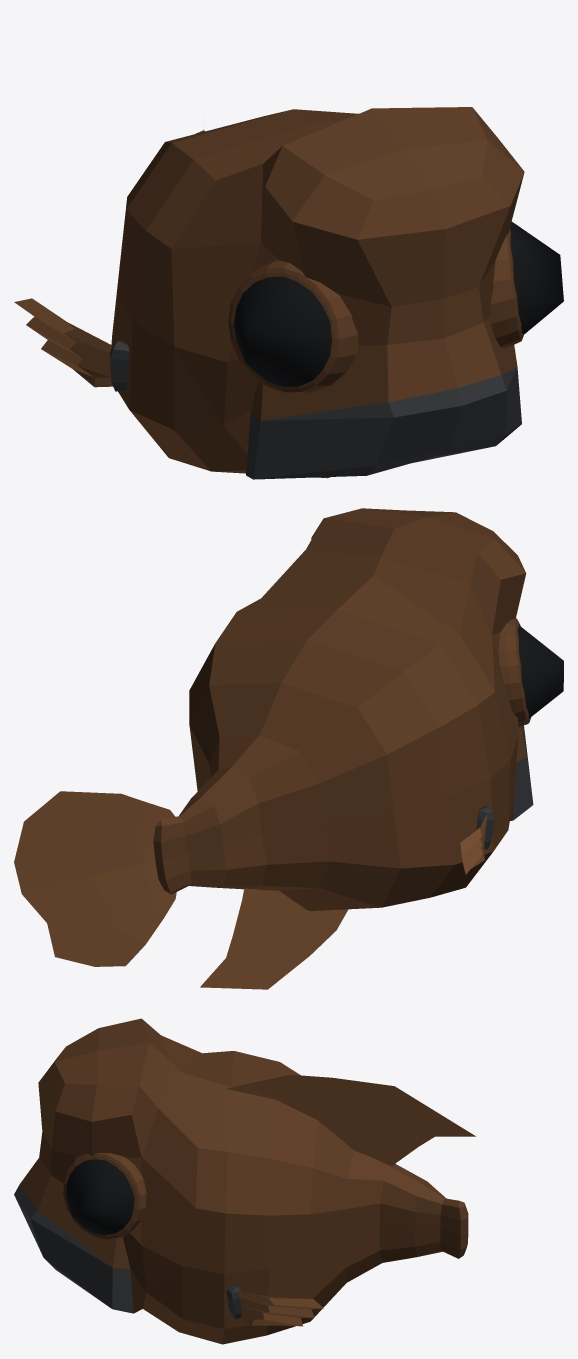
Rendered from cc0-flower-horn-lod1.glb.
3 views of the same model, one above another, from view 1: azimuth 30°, elevation 25°; view 2: azimuth 150°, elevation 25°; view 3: azimuth 270°, elevation 25° (orthographic). The views are drawn at different scales.
Visible parts, largest first — view 1: part_0; view 2: part_0; view 3: part_0.
Boxes of the visible parts, x1,y1,x2,y2 form: part_0: (14,107,563,479); part_0: (14,508,563,989); part_0: (14,1018,475,1344).
Bounding box in the file's own units: 3.16 × 3 × 5.04.
